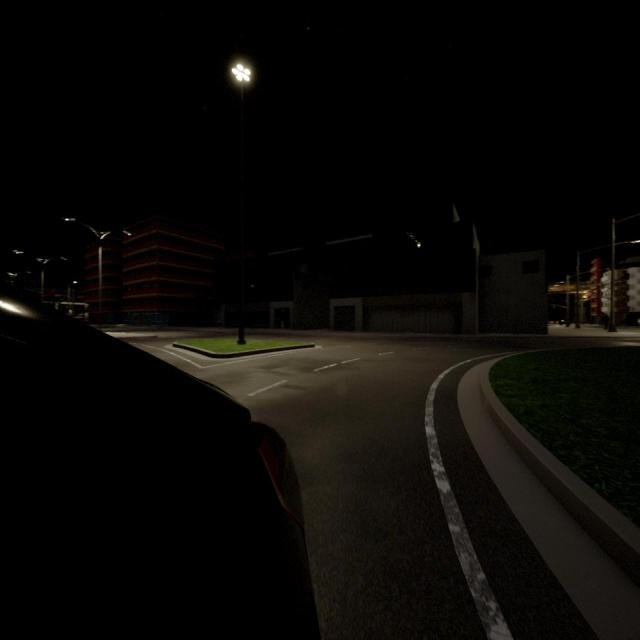Vehicle: (0, 297, 310, 637)
